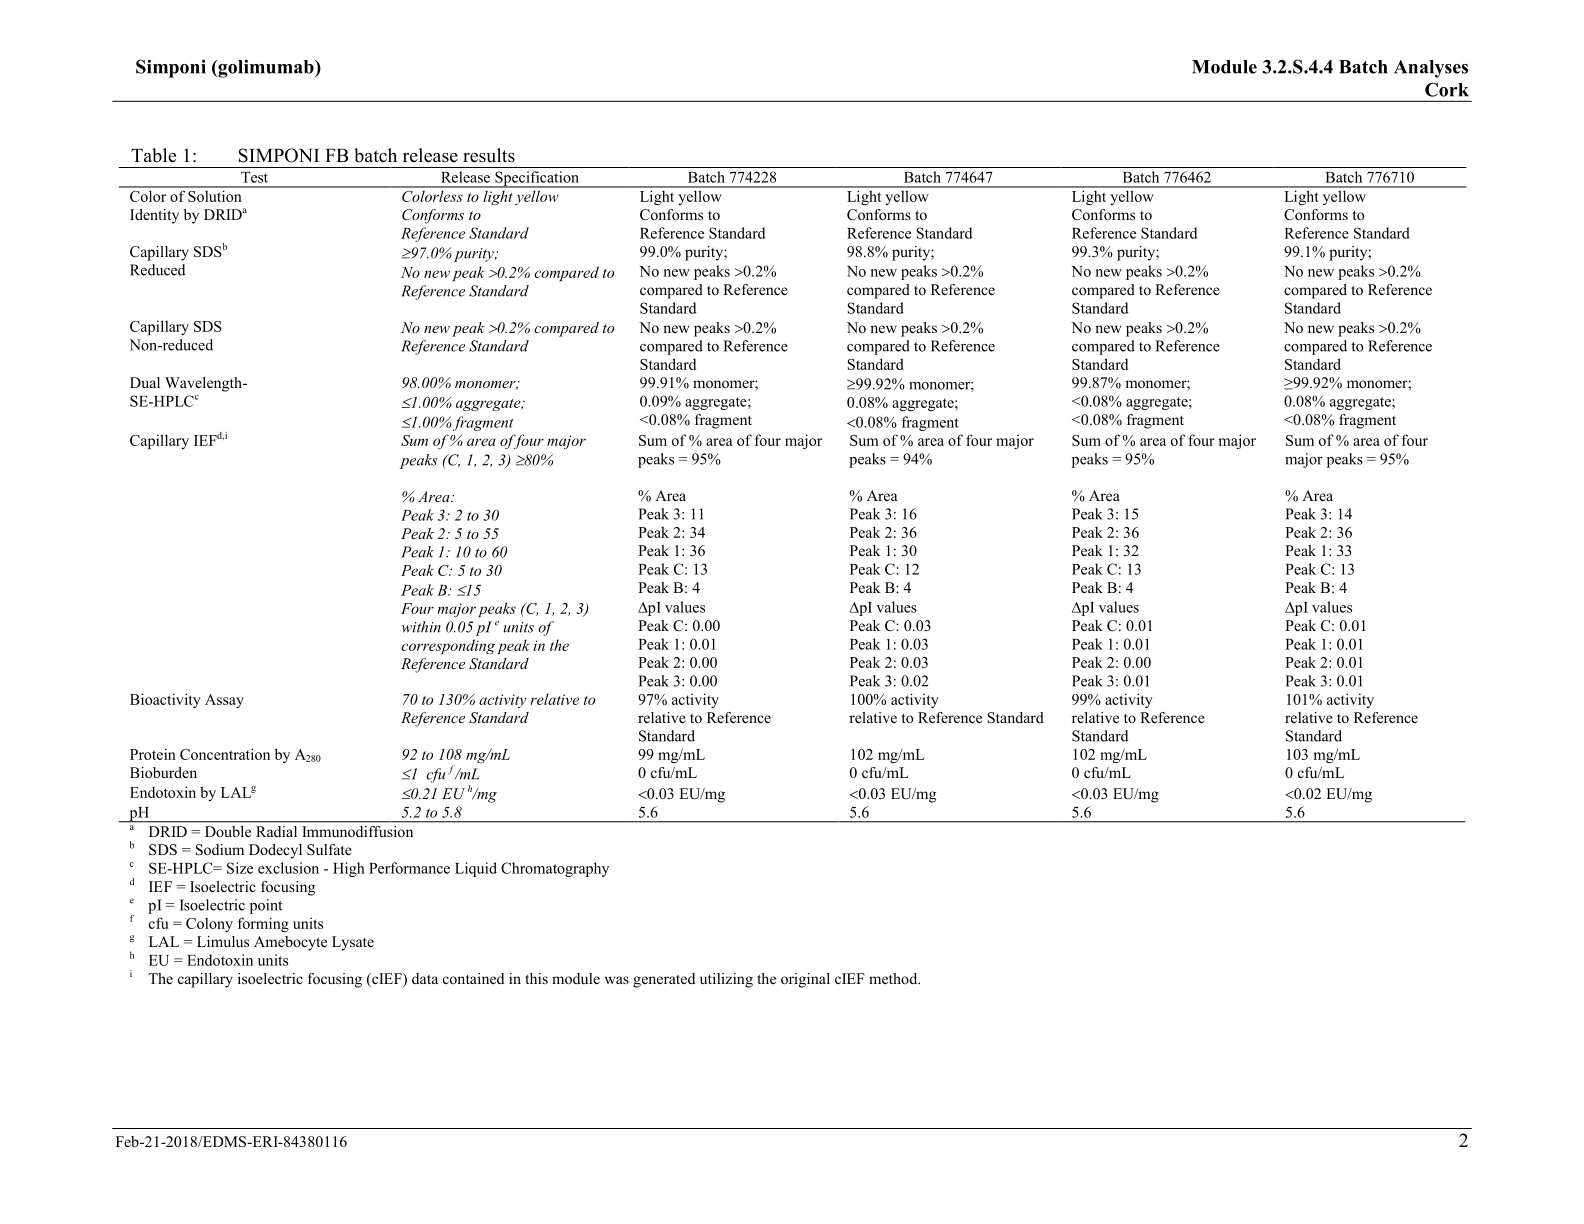partial_lined: (117, 165, 1464, 822)
